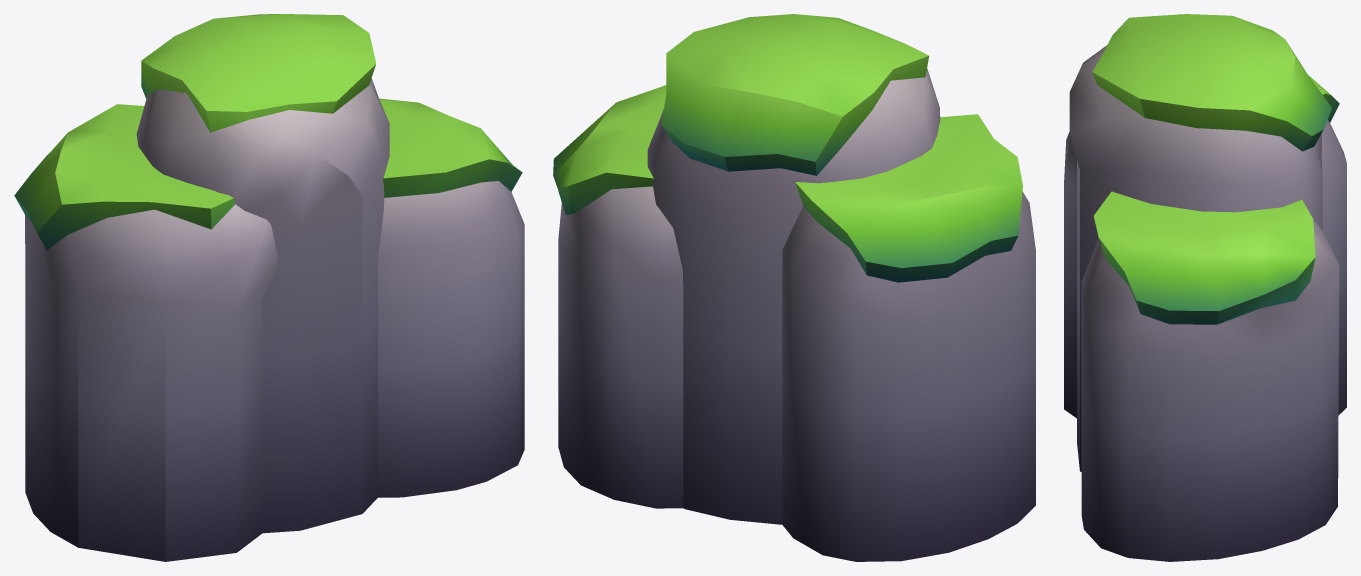
The model's file is column_lev_9.fbx.
3 views of the same model, side by side, from view 1: azimuth 30°, elevation 25°; view 2: azimuth 150°, elevation 25°; view 3: azimuth 270°, elevation 25° (orthographic). The views are drawn at different scales.
Visible parts, largest first — view 1: column_lev_10; view 2: column_lev_10; view 3: column_lev_10.
Part boxes in pixels (x1=…): column_lev_10: x1=14, y1=14, x2=524, y2=561; column_lev_10: x1=553, y1=14, x2=1035, y2=561; column_lev_10: x1=1064, y1=14, x2=1346, y2=561.
Bounding box in the file's own units: 1096 × 996 × 618.
